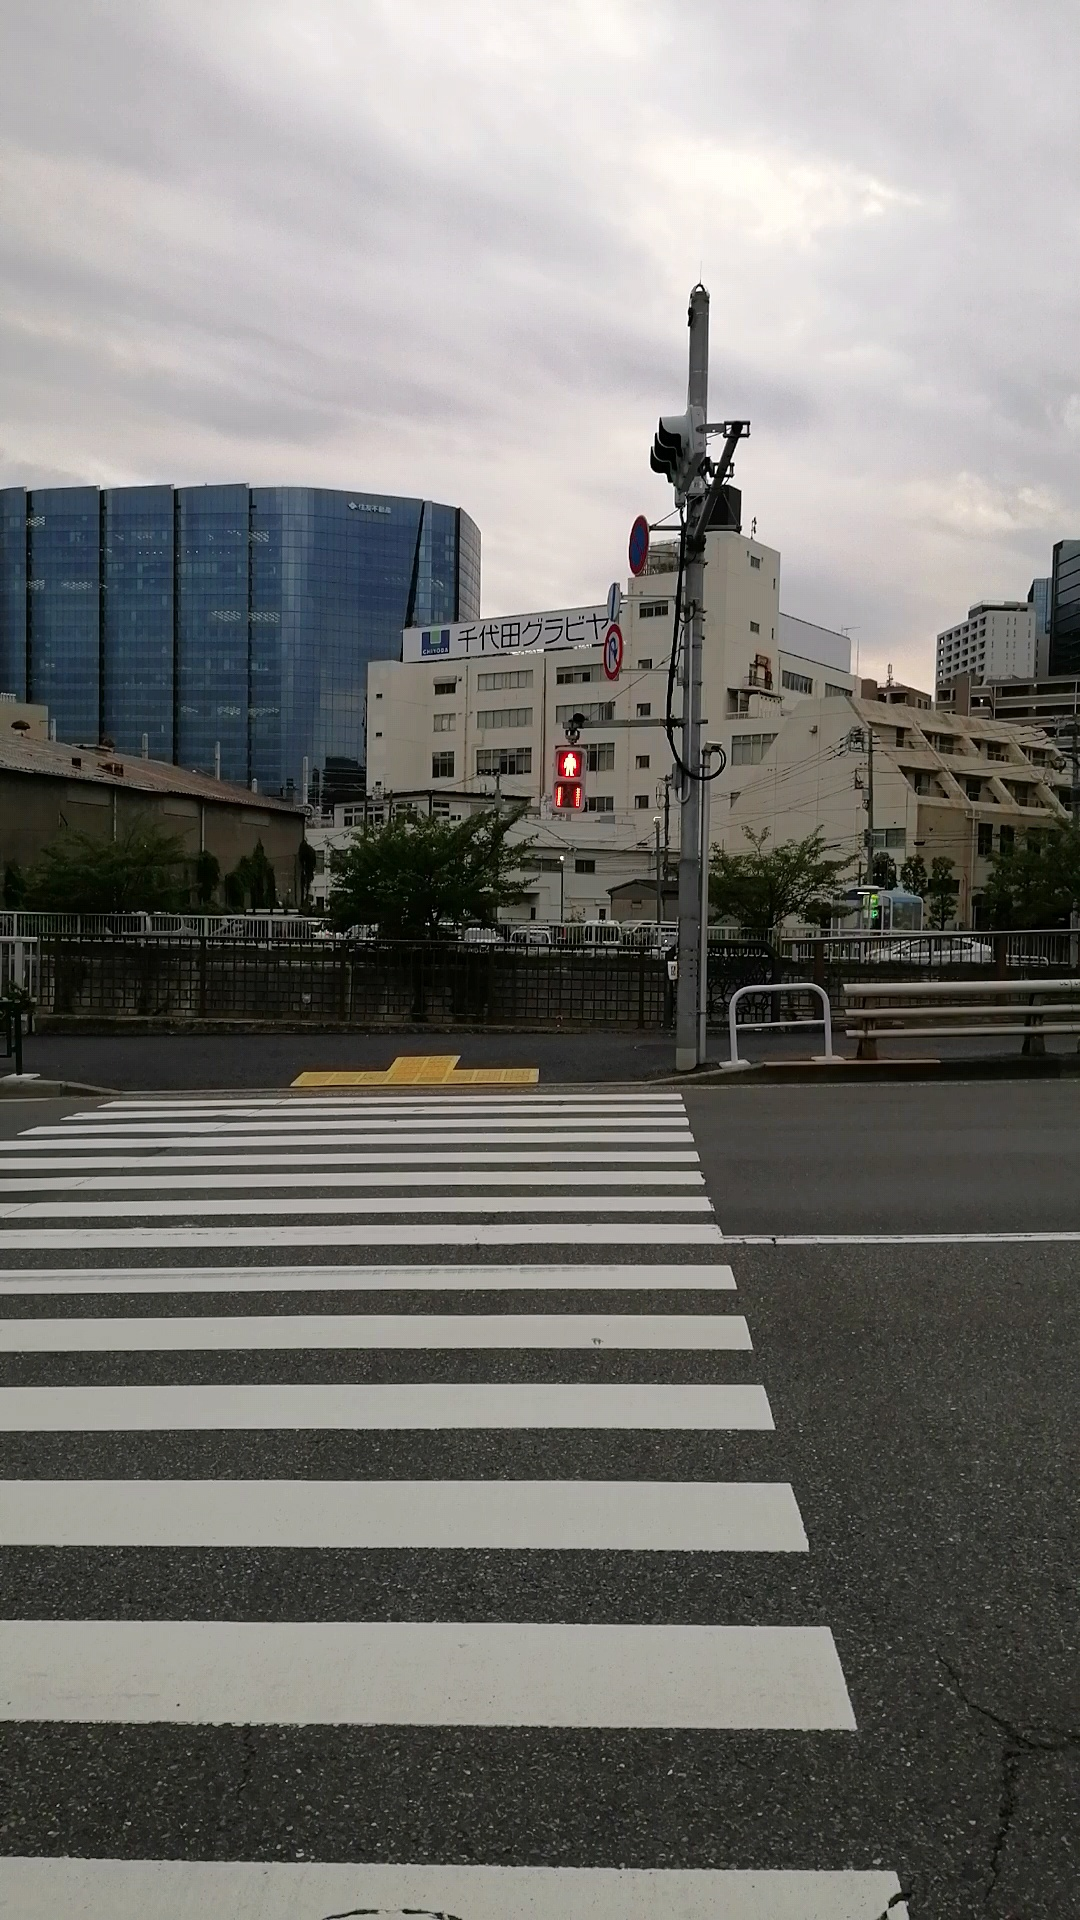red: (553, 746, 585, 814)
